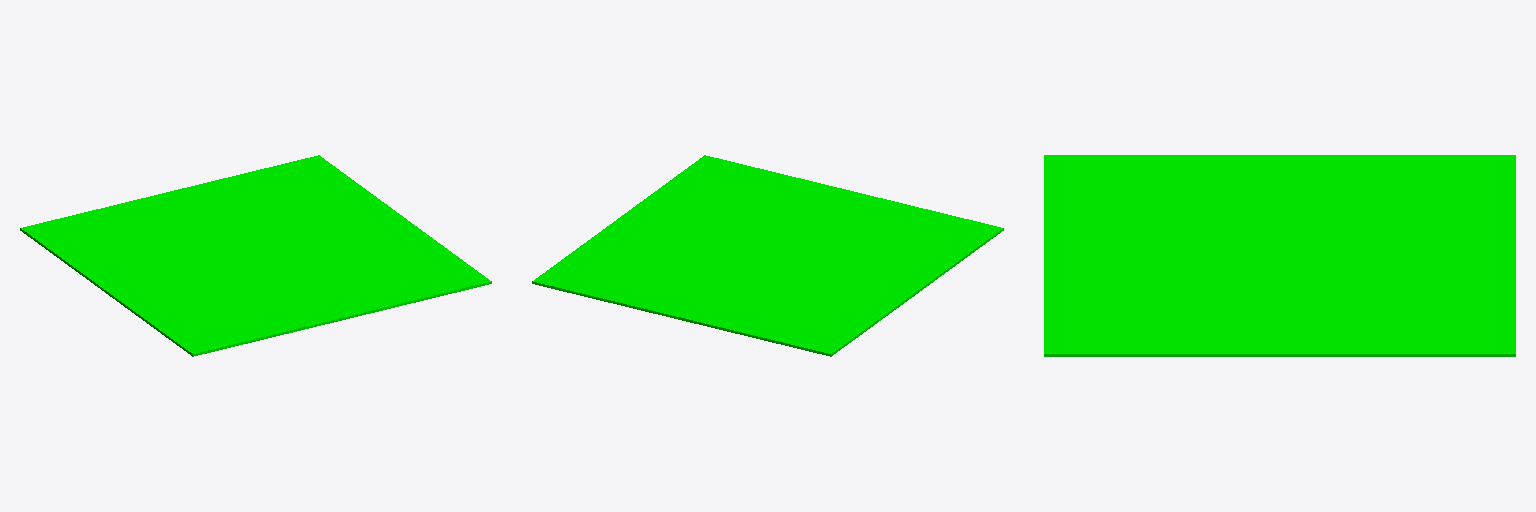
robot.urdf — goal_zone:
<?xml version="1.0" ?>
<robot name="goal_zone">
  <link name="base">
    <visual>
      <origin xyz="0 0 0" rpy="0 0 0"/>
      <geometry>
        <box size="0.12 0.12 0.001"/>
      </geometry>
      <material name="goal_color">
        <color rgba="0 1 0 0.4"/> <!-- green + transparent -->
      </material>
    </visual>
    <collision>
      <origin xyz="0 0 0" rpy="0 0 0"/>
      <geometry>
        <box size="0 0 0"/>
      </geometry>
    </collision>
    <inertial>
      <mass value="0.001"/>
      <inertia ixx="1e-5" iyy="1e-5" izz="1e-5"/>
    </inertial>
  </link>
</robot>

--- Render facts (derived) ---
Views: 3 orthographic renders of the robot side by side, from view 1: azimuth 30°, elevation 25°; view 2: azimuth 150°, elevation 25°; view 3: azimuth 270°, elevation 25°.
Robot: goal_zone — 1 links, 0 joints (none); root link base; default pose: every joint at zero.
Links seen in each view (by area): view 1: base; view 2: base; view 3: base.
Boxes of the visible links, x1,y1,x2,y2 form: base: (20, 155, 491, 356); base: (532, 155, 1003, 356); base: (1044, 155, 1515, 356).
Bounding box of the posed robot: 0.12 × 0.12 × 0.001 m (x, y, z).
Geometry: primitives only (box / cylinder / sphere), no mesh files.
